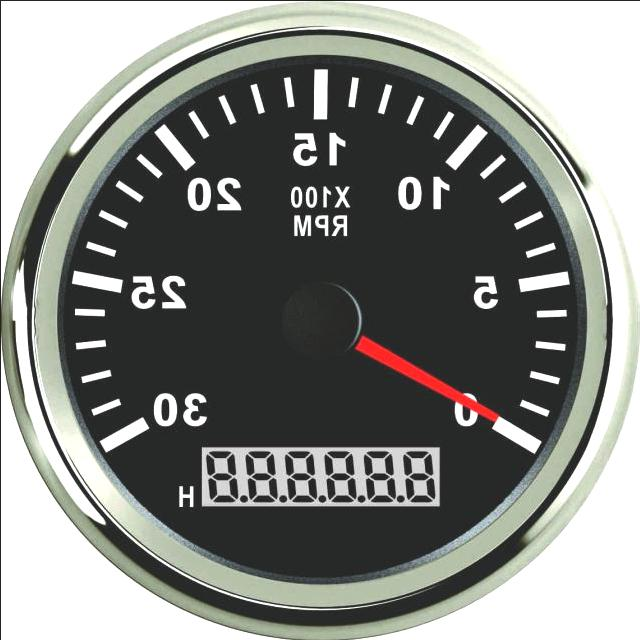Needle_Tip: (455, 395, 503, 427)
Needle_base: (259, 262, 382, 376)
max_value: (128, 381, 229, 449)
min_value: (403, 381, 524, 444)
